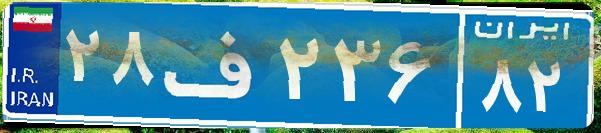2: (273, 28, 330, 110), (57, 26, 110, 107), (525, 38, 570, 115)
3: (330, 28, 385, 110)
6: (385, 28, 445, 110)
8: (475, 38, 525, 113), (110, 28, 158, 105)
ف: (158, 15, 273, 115)
